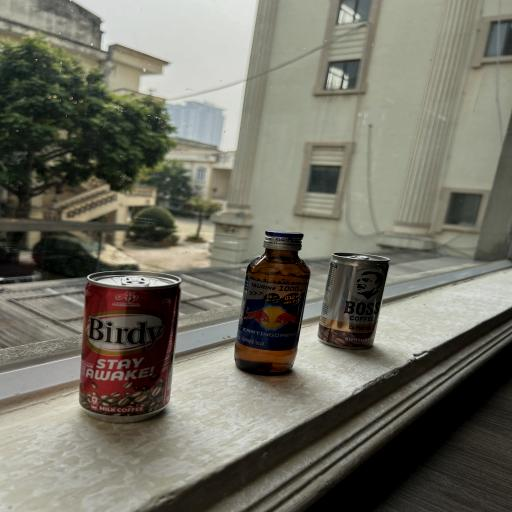birdy: (73, 270, 178, 425)
bo_huc: (231, 223, 310, 372)
boss_coffee: (320, 242, 390, 355)
